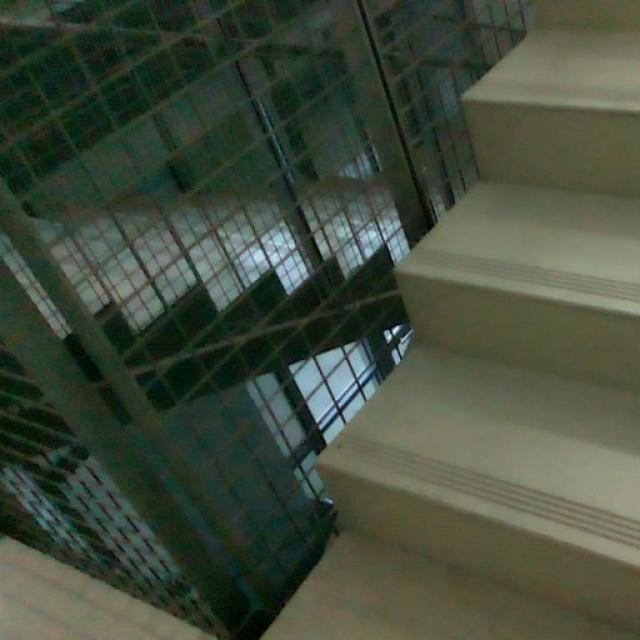stair: (333, 0, 640, 566)
